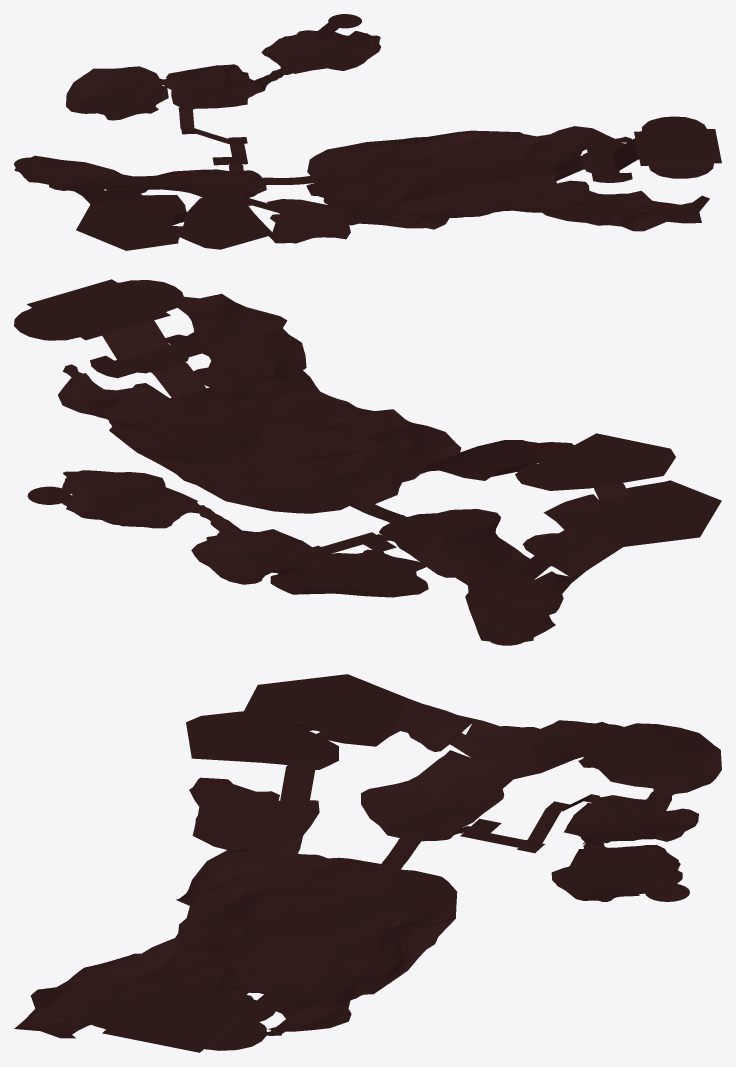
File: model_102_xzm.FBX
3 views of the same model, one above another, from view 1: azimuth 30°, elevation 25°; view 2: azimuth 150°, elevation 25°; view 3: azimuth 270°, elevation 25° (orthographic). The views are drawn at different scales.
Visible parts, largest first — view 1: model_102_xzm; view 2: model_102_xzm; view 3: model_102_xzm.
Part boxes in pixels (box(x1,y1,x2,y2)): model_102_xzm: box(14, 14, 721, 250); model_102_xzm: box(14, 279, 721, 645); model_102_xzm: box(14, 674, 721, 1052).
Size of the model in its own units: 24248 by 2042 by 19182.
